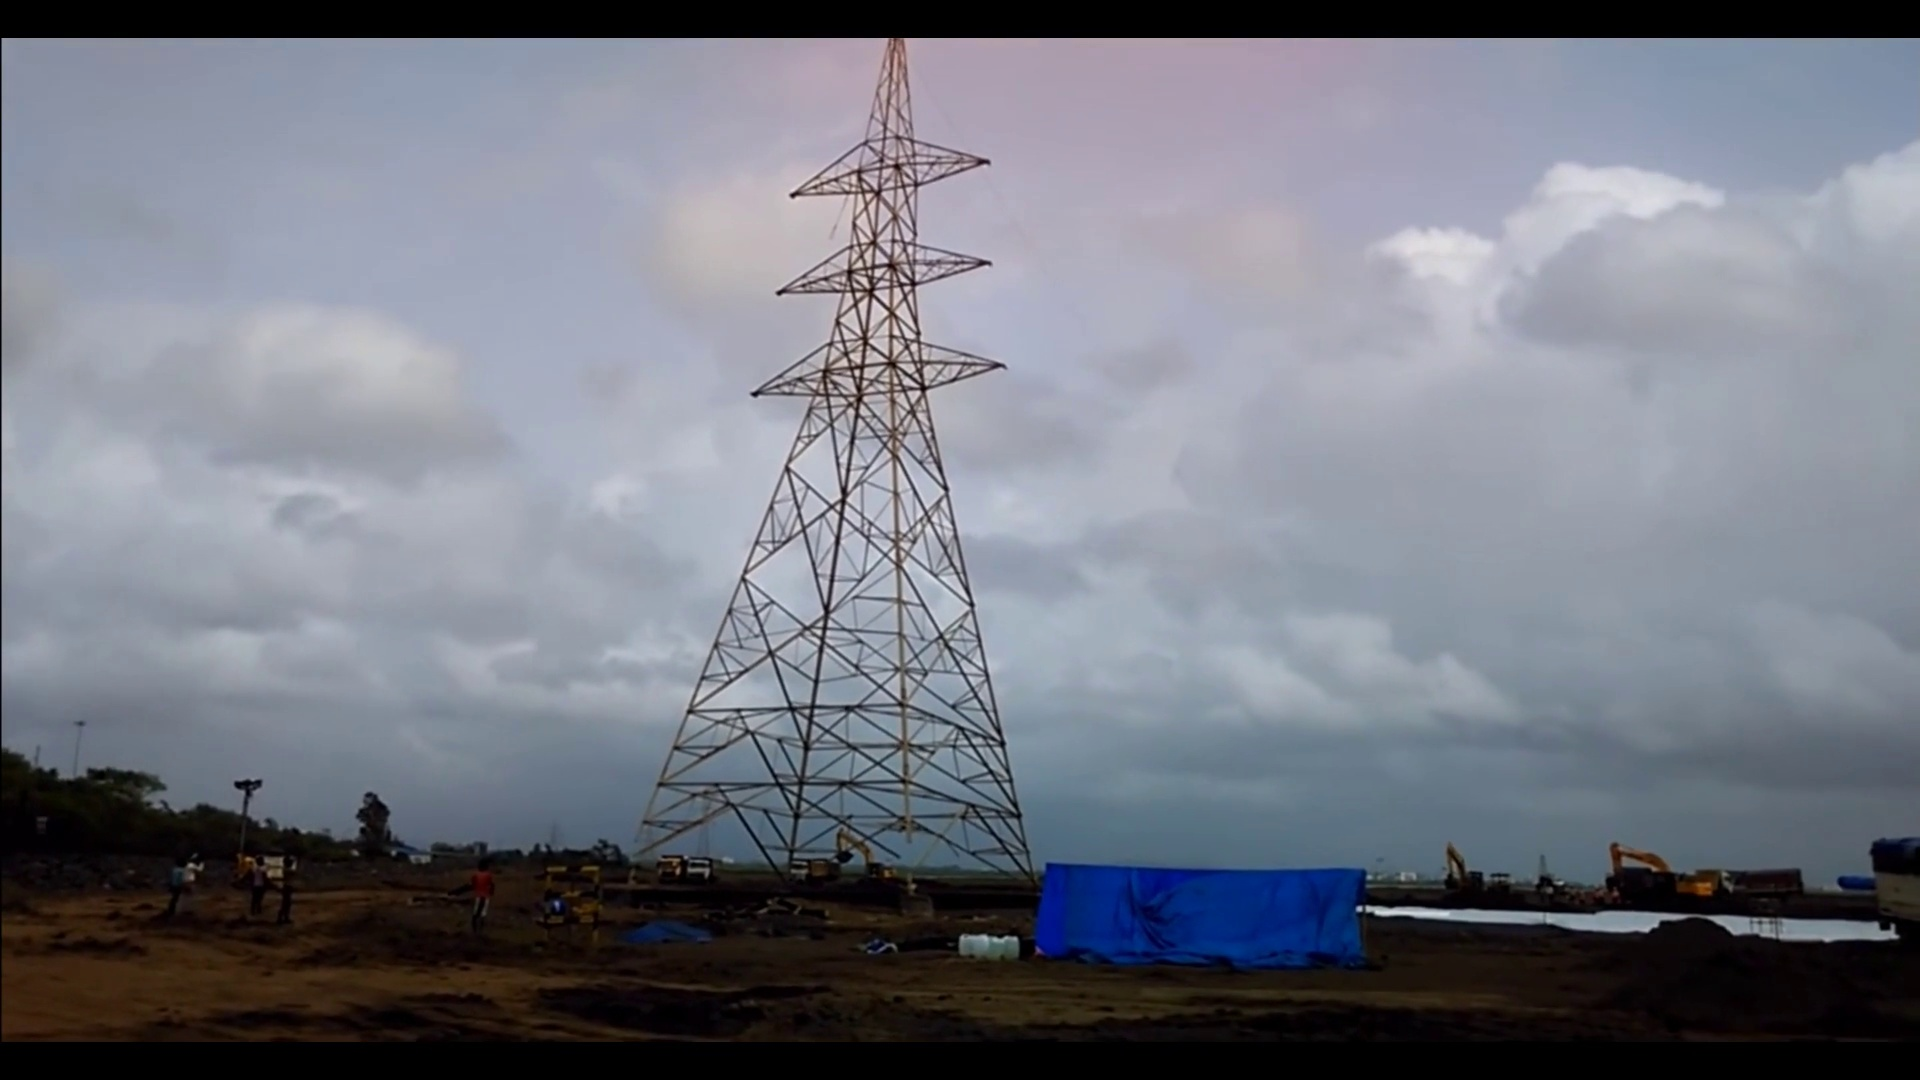tower_up: (591, 36, 1065, 890)
